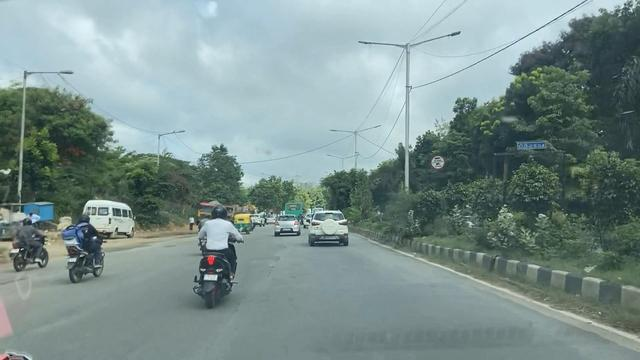HMV: (79, 197, 141, 237)
LMV: (176, 193, 254, 322), (63, 216, 110, 286), (8, 215, 58, 272), (305, 205, 352, 245), (264, 209, 301, 246), (235, 206, 253, 241)
